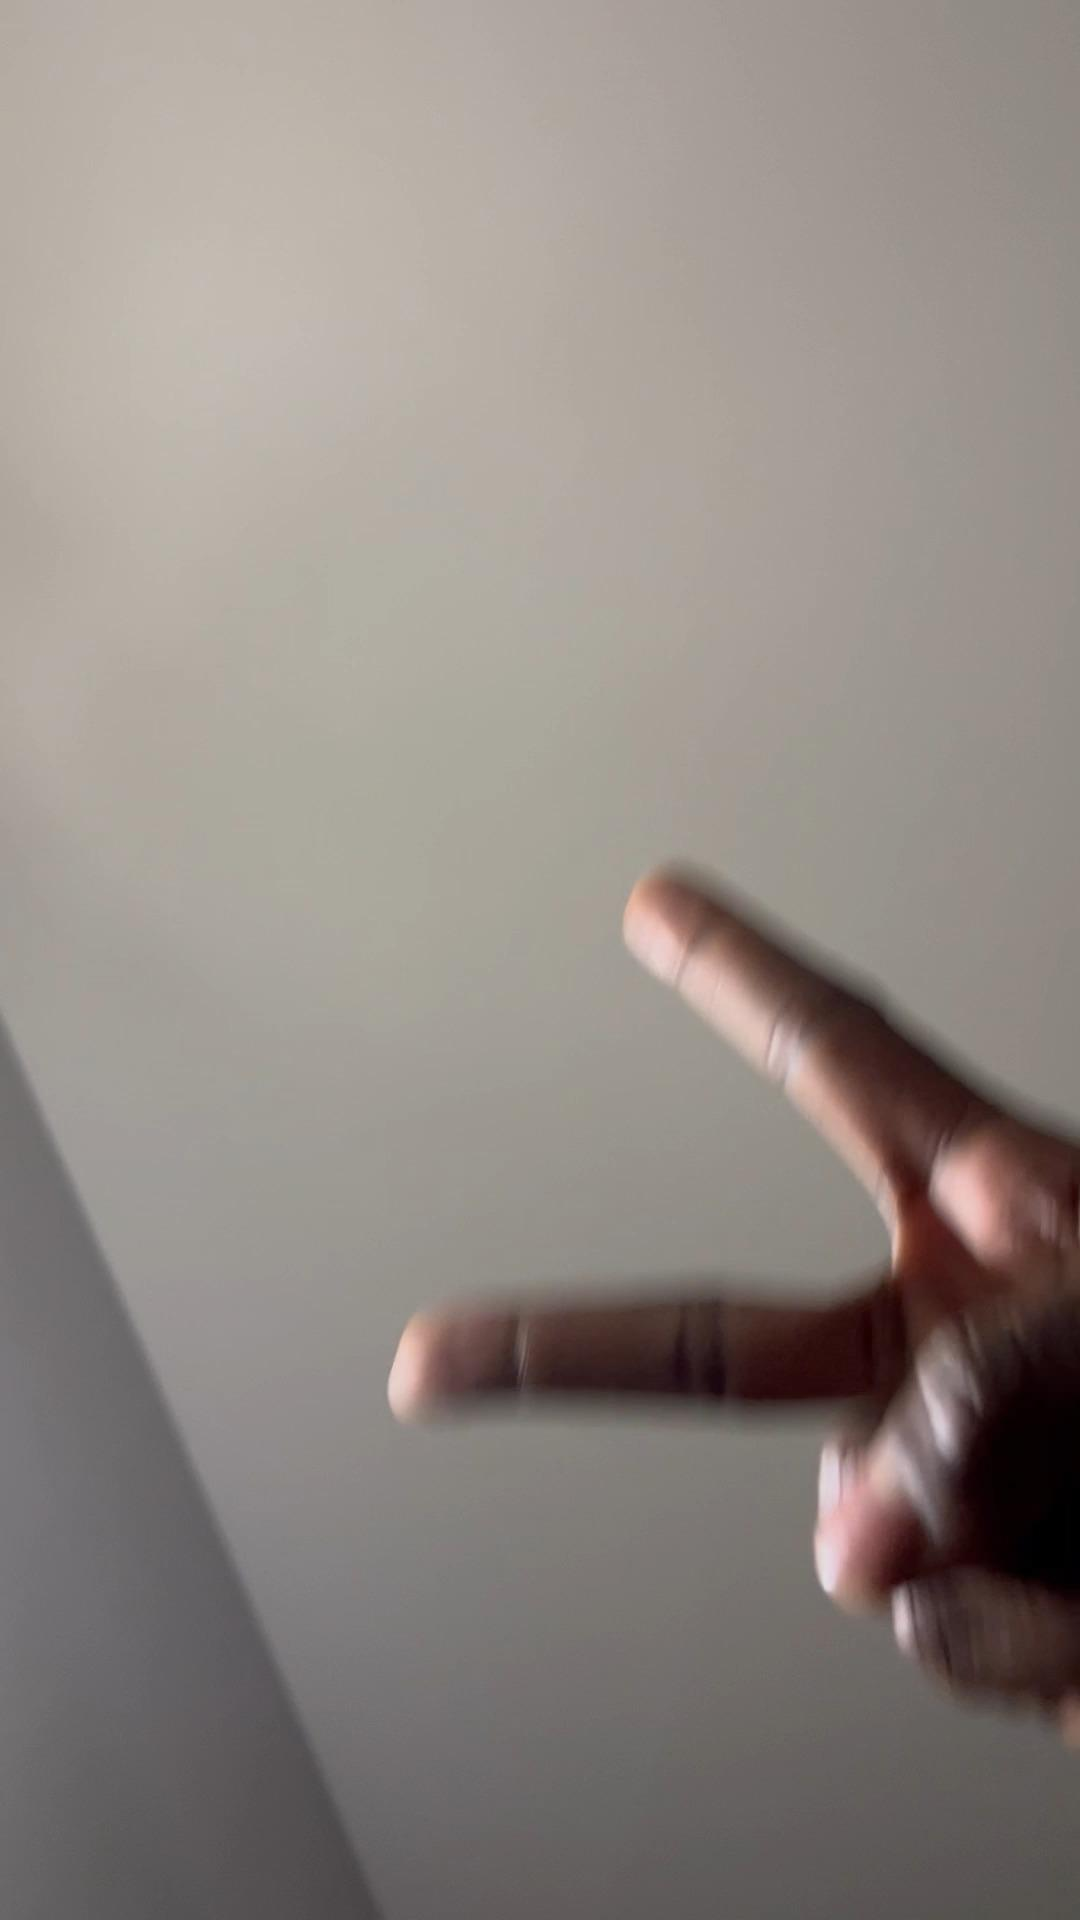Scissors: (393, 870, 1080, 1756)
